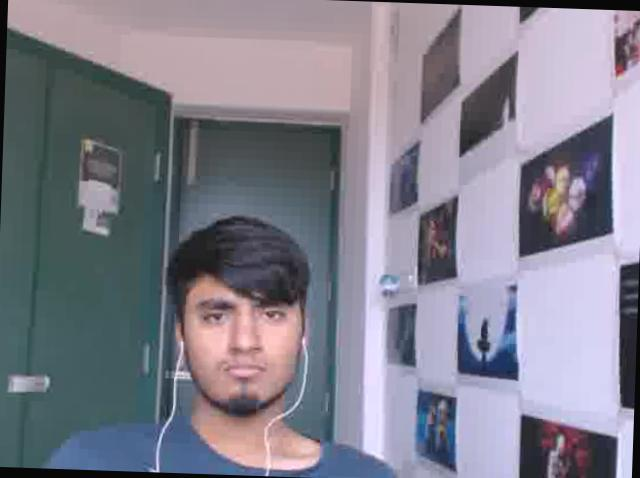bingung: (186, 266, 303, 405)
